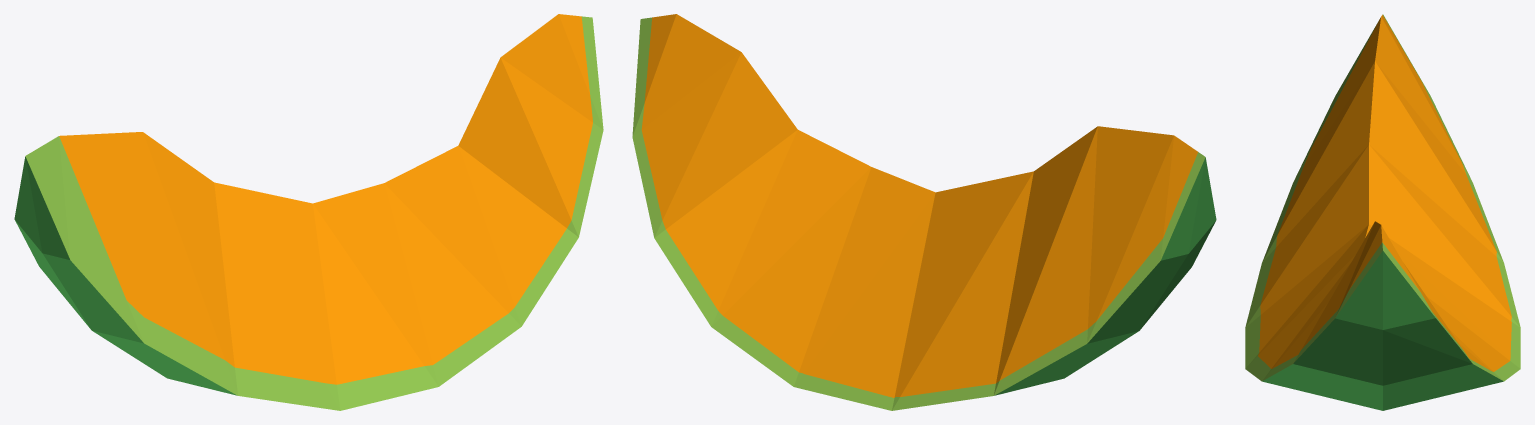
The model's file is melon.glb.
The picture shows the model from 3 angles, left to right: view 1: azimuth 30°, elevation 25°; view 2: azimuth 150°, elevation 25°; view 3: azimuth 270°, elevation 25°; orthographic projection. The views are drawn at different scales.
Visible parts, largest first — view 1: Node; view 2: Node; view 3: Node.
Boxes of the visible parts, x1,y1,x2,y2 form: Node: [14, 14, 603, 410]; Node: [632, 14, 1216, 410]; Node: [1245, 14, 1520, 410].
Size of the model in its own units: 2.98 by 1.53 by 1.47.
